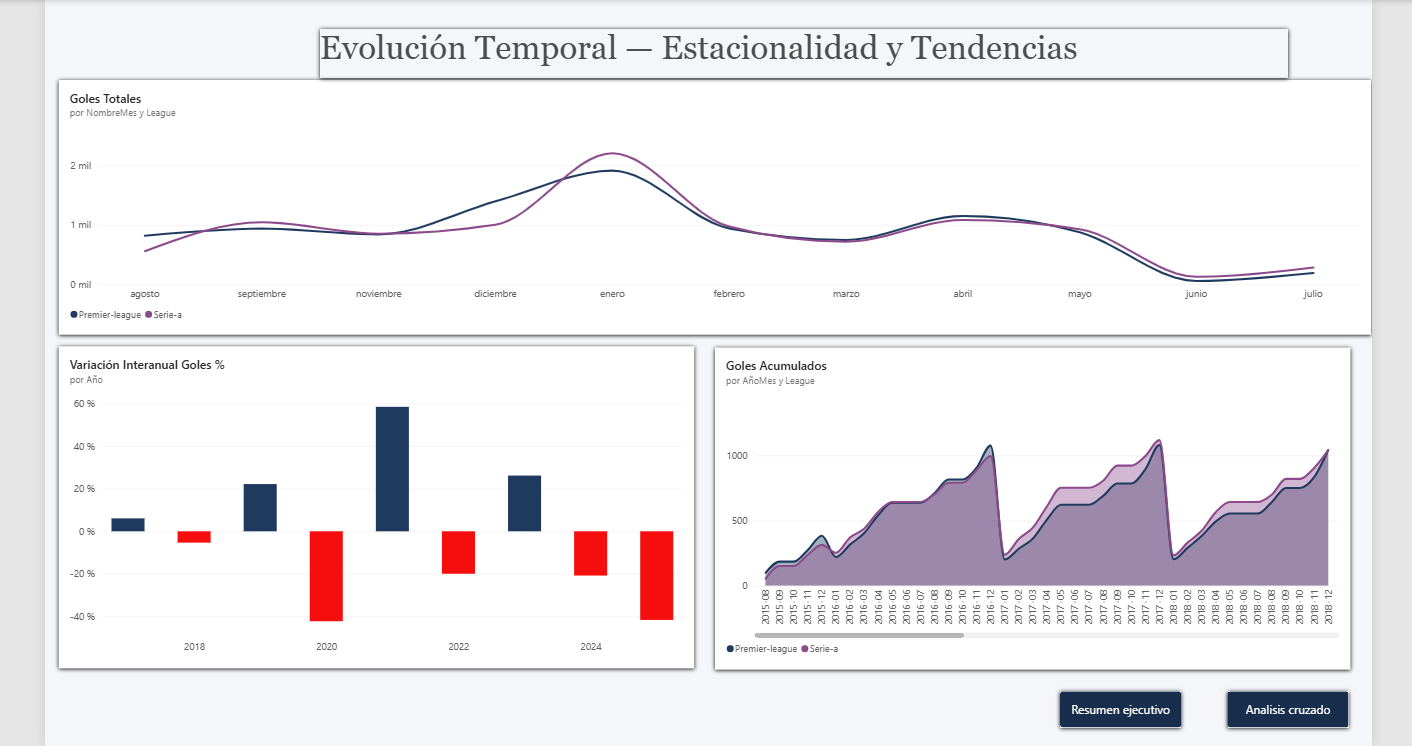

This screenshot's page, from the dashboard's own definition file:
{"tool":"powerbi","page":{"name":"Evolución temporal","canvas":[1920,1080],"ordinal":1},"visuals":[{"type":"lineChart","fields":{"Category":["Dim_Calendario.NombreMes"],"Series":["Dim_liga.League"],"Y":["Medidas.Goles Totales"]},"box":[19.9,115.8,1900.1,369.2],"z":0},{"type":"columnChart","fields":{"Category":["Dim_Calendario.Año"],"Y":["Medidas.Variación Interanual Goles %"]},"box":[19.9,501.3,920,466],"z":1000},{"type":"areaChart","fields":{"Category":["Dim_Calendario.AñoMes"],"Series":["Dim_liga.League"],"Y":["Medidas.Goles Acumulados"]},"box":[970,503.1,920,466],"z":2000},{"type":"textbox","box":[397.5,42.5,1401.4,71.4],"z":3000},{"type":"actionButton","box":[1469.4,1000.7,175.5,52.5],"z":3001},{"type":"actionButton","box":[1711.9,1000.7,175.5,52.5],"z":3002}]}

Visuals, with their boxes on the page's 1920x1080 design canvas (x1, y1, x2, y2). These are canvas units, not pixel positions in the 1412x746 screenshot, which may show the page scaled, cropped or inside an application window:
lineChart - Dim_Calendario.NombreMes x Dim_liga.League: x1=20, y1=116, x2=1920, y2=485
columnChart - Dim_Calendario.Año x Medidas.Variación Interanual Goles %: x1=20, y1=501, x2=940, y2=967
areaChart - Dim_Calendario.AñoMes x Dim_liga.League: x1=970, y1=503, x2=1890, y2=969
textbox: x1=398, y1=42, x2=1799, y2=114
actionButton: x1=1469, y1=1001, x2=1645, y2=1053
actionButton: x1=1712, y1=1001, x2=1887, y2=1053
